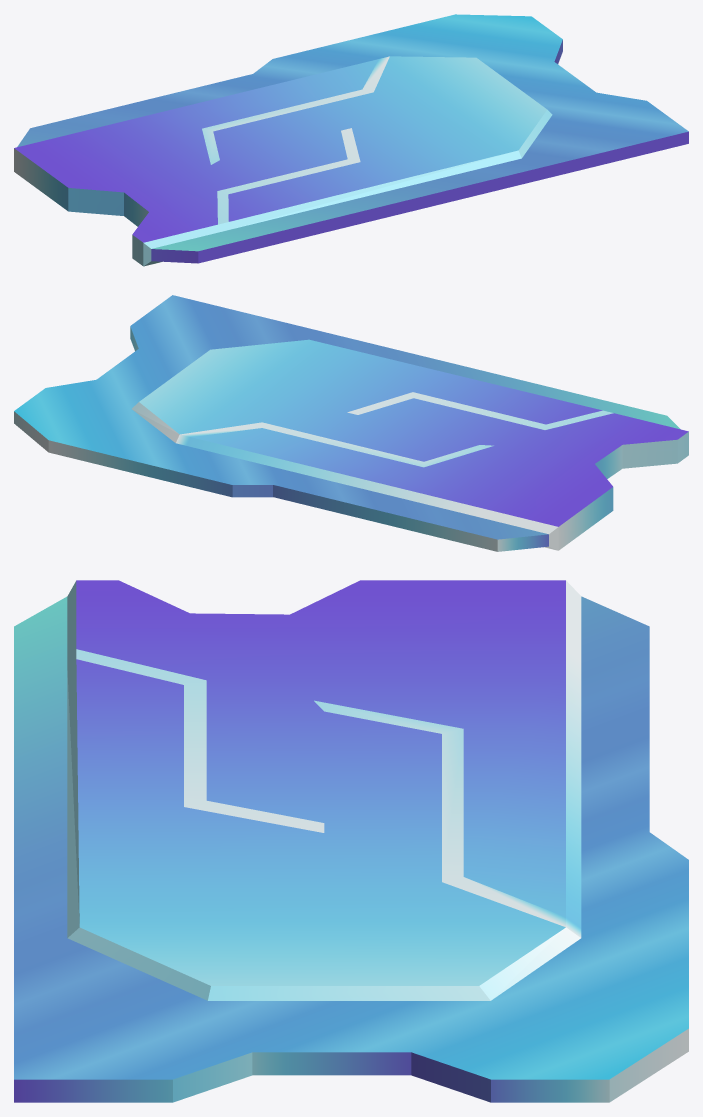
The model's file is x_scificard_pickup.fbx.
3 renders of one model, top to bottom at view 1: azimuth 30°, elevation 25°; view 2: azimuth 150°, elevation 25°; view 3: azimuth 270°, elevation 25°, orthographic. The views are drawn at different scales.
Visible parts, largest first — view 1: x_scificard_pickup; view 2: x_scificard_pickup; view 3: x_scificard_pickup.
Part boxes in pixels (<box>): x_scificard_pickup: <box>14,14,688,266</box>; x_scificard_pickup: <box>14,295,688,551</box>; x_scificard_pickup: <box>14,580,688,1102</box>.
Bounding box in the file's own units: 35.61 × 1.53 × 20.8.
Materials: 1 (1 with a texture image).
